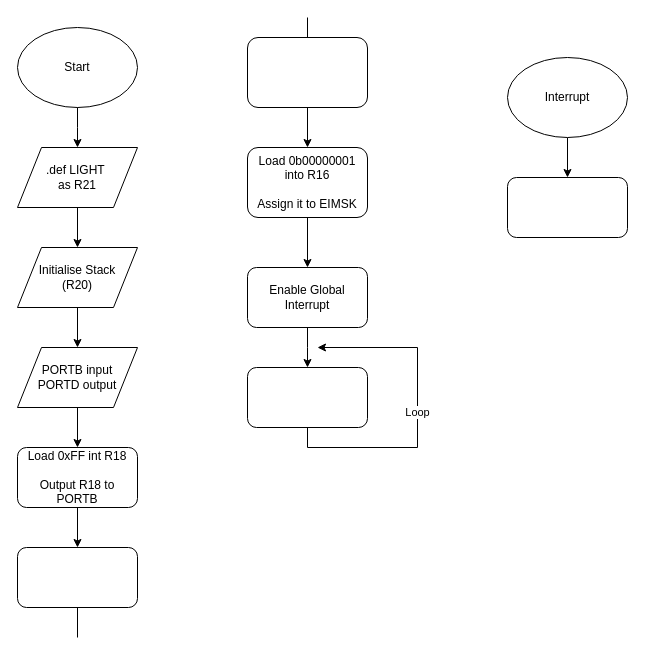
This 645x656 diagram has some shape labels left out. Here are the shapes that lost their labels. From the top down, the box of each, then its label:
(246, 36, 368, 108): Load 0b00000010 into R16 Assign it to EICRA
(506, 176, 628, 238): One's Complement of LIGHT
(246, 366, 368, 428): Output LIGHT to PORTB
(16, 546, 138, 608): Copy R18 to LIGHT
